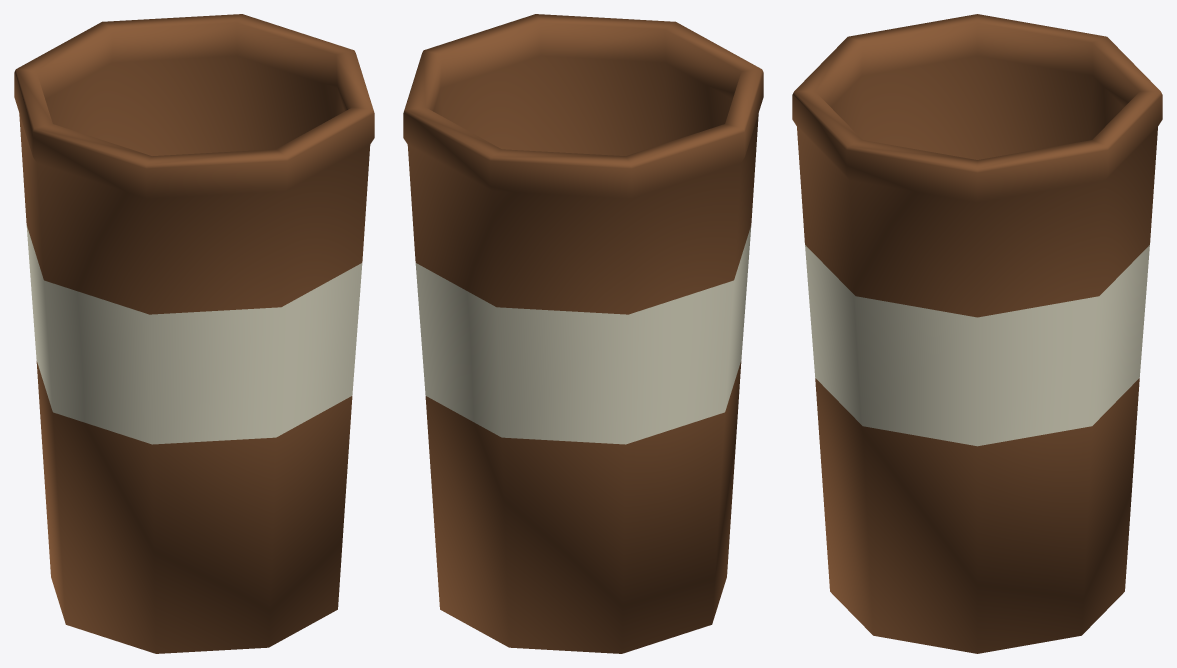
Rendered from coffee cup lvl3.fbx.
The picture shows the model from 3 angles, left to right: view 1: azimuth 30°, elevation 25°; view 2: azimuth 150°, elevation 25°; view 3: azimuth 270°, elevation 25°; orthographic projection.
Visible parts, largest first — view 1: Cylinder.004; view 2: Cylinder.004; view 3: Cylinder.004.
Boxes of the visible parts, left/top/right/bottom form: Cylinder.004: left=14, top=14, right=374, bottom=653; Cylinder.004: left=403, top=14, right=763, bottom=653; Cylinder.004: left=792, top=14, right=1162, bottom=653.
Bounding box in the file's own units: 31.18 × 31.18 × 46.5.
1 material, 1 textured.
